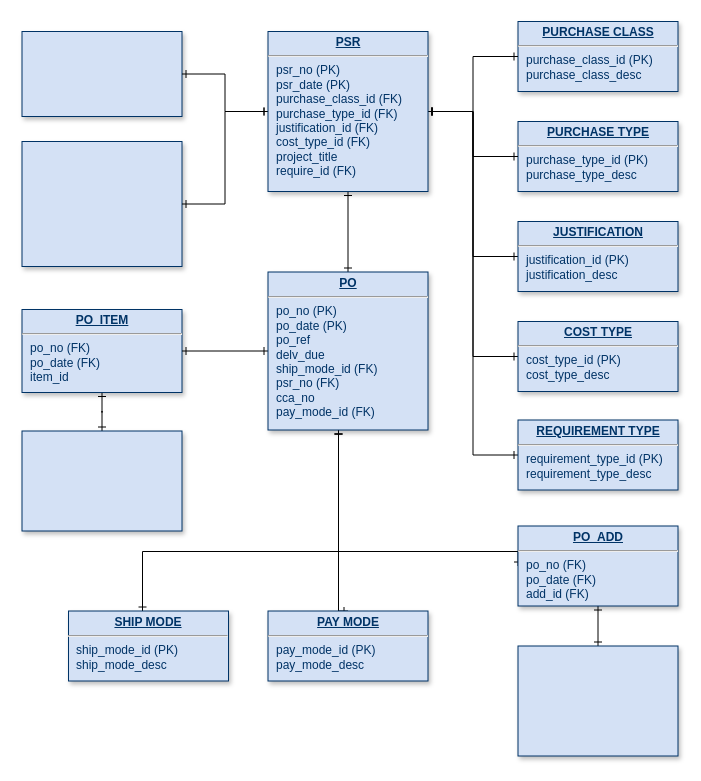
This 701x781 diagram has some shape labels left out. Each missing label, with the centre of its shape:
"ADDRESS add_id (PK) add_data add_postcode add_state add_country" goes at (x=598, y=702).
"DESCRIPTION desc_id desc_data desc_qty desc_unit desc_ccode desc_remarks" goes at (x=102, y=205).
"ITEM item_id item_desc item_price_unit item_qty" goes at (x=102, y=482).
"PSR_DESC psr_no (FK) psr_date (FK) desc_id (FK)" goes at (x=102, y=75).
